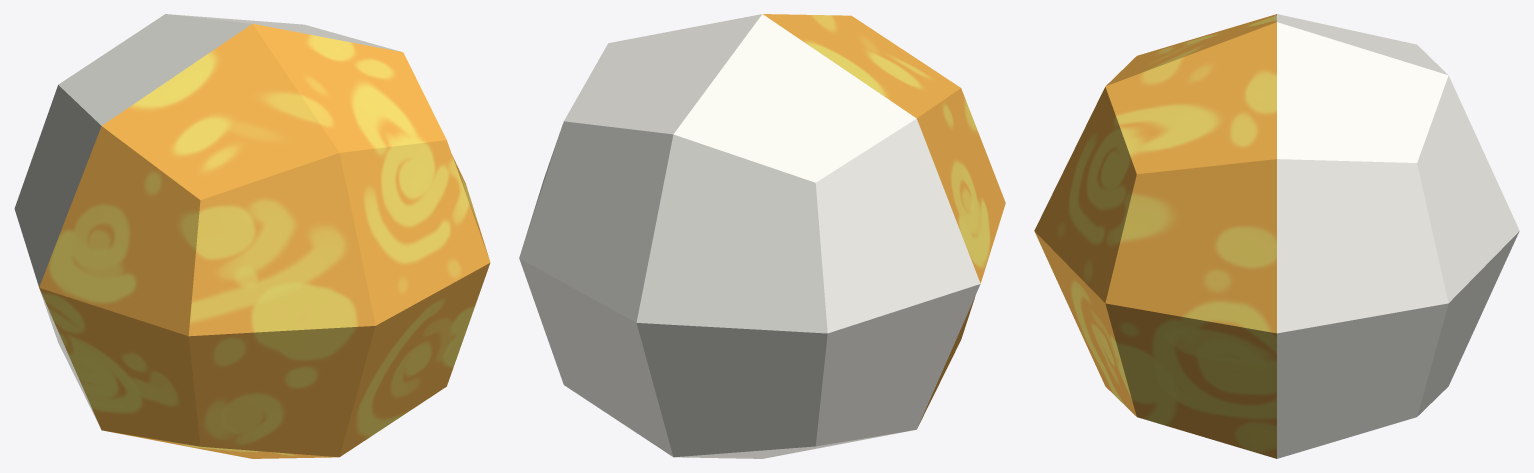
File: polen_teste2.fbx
3 views of the same model, side by side, from view 1: azimuth 30°, elevation 25°; view 2: azimuth 150°, elevation 25°; view 3: azimuth 270°, elevation 25° (orthographic). The views are drawn at different scales.
Parts seen in each view (by area): view 1: Roundcube; view 2: Roundcube; view 3: Roundcube.
Boxes of the visible parts, bbox=[...] form: Roundcube: bbox=[14, 14, 490, 458]; Roundcube: bbox=[519, 14, 1005, 458]; Roundcube: bbox=[1034, 14, 1519, 458].
Bounding box in the file's own units: 240 × 234 × 240.
